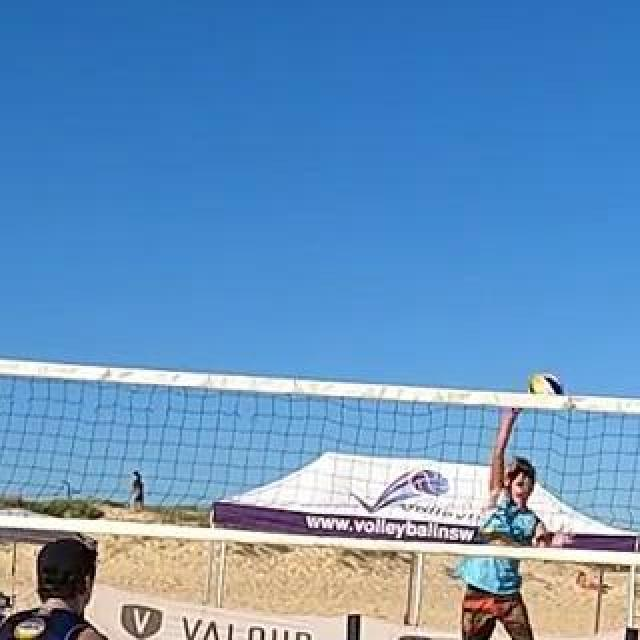volleyball: (529, 374, 563, 402)
